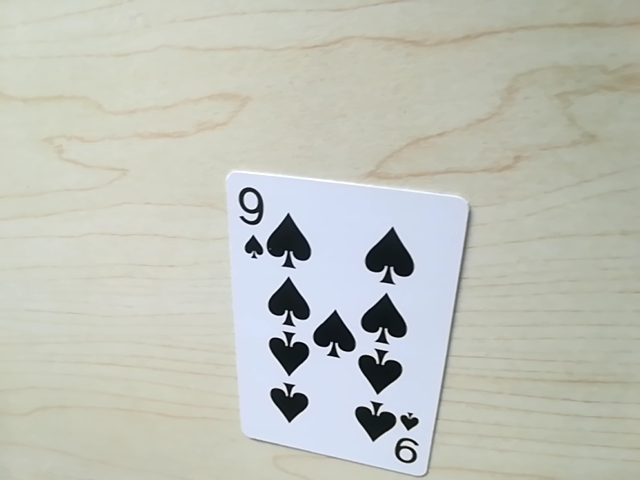ht 9: (230, 175, 280, 260), (375, 410, 425, 470)
